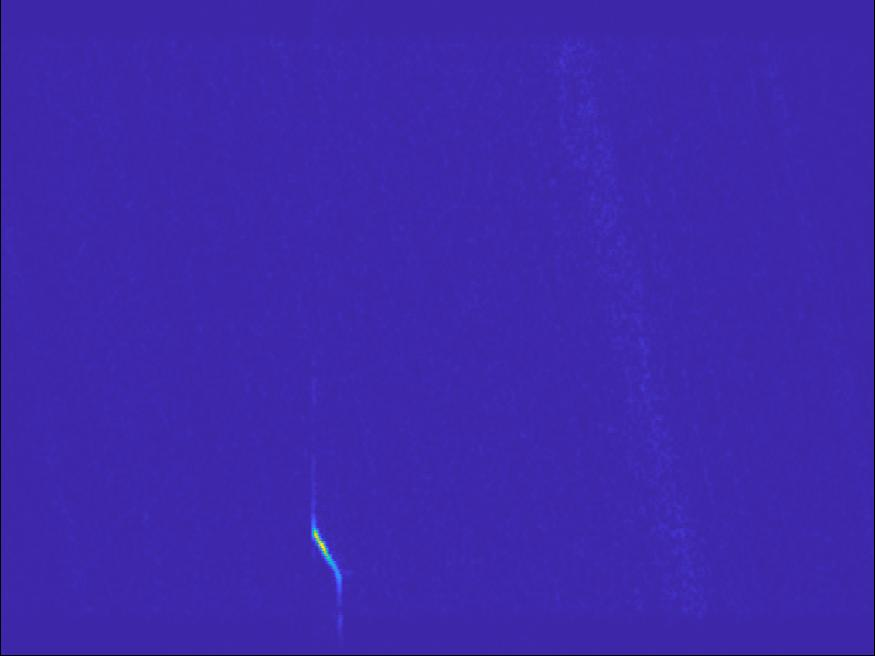Interference: (291, 472, 365, 641)
